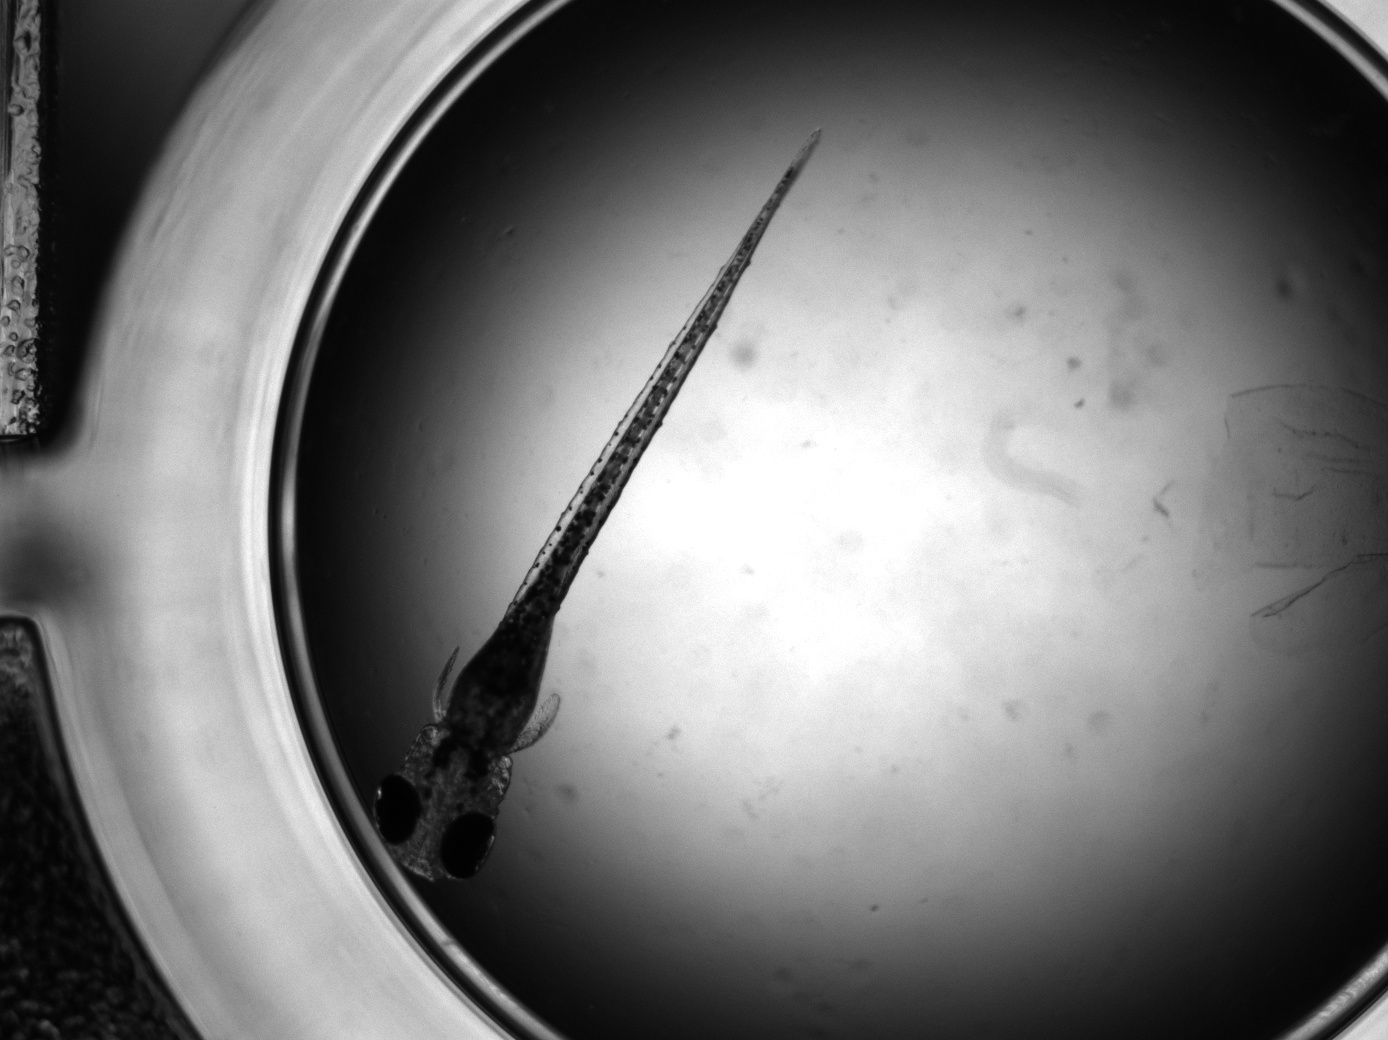debris: (1226, 380, 1388, 666)
embryo: (372, 123, 822, 883)
eye: (438, 811, 498, 879), (373, 775, 423, 847)
yolksac: (446, 614, 551, 760)
